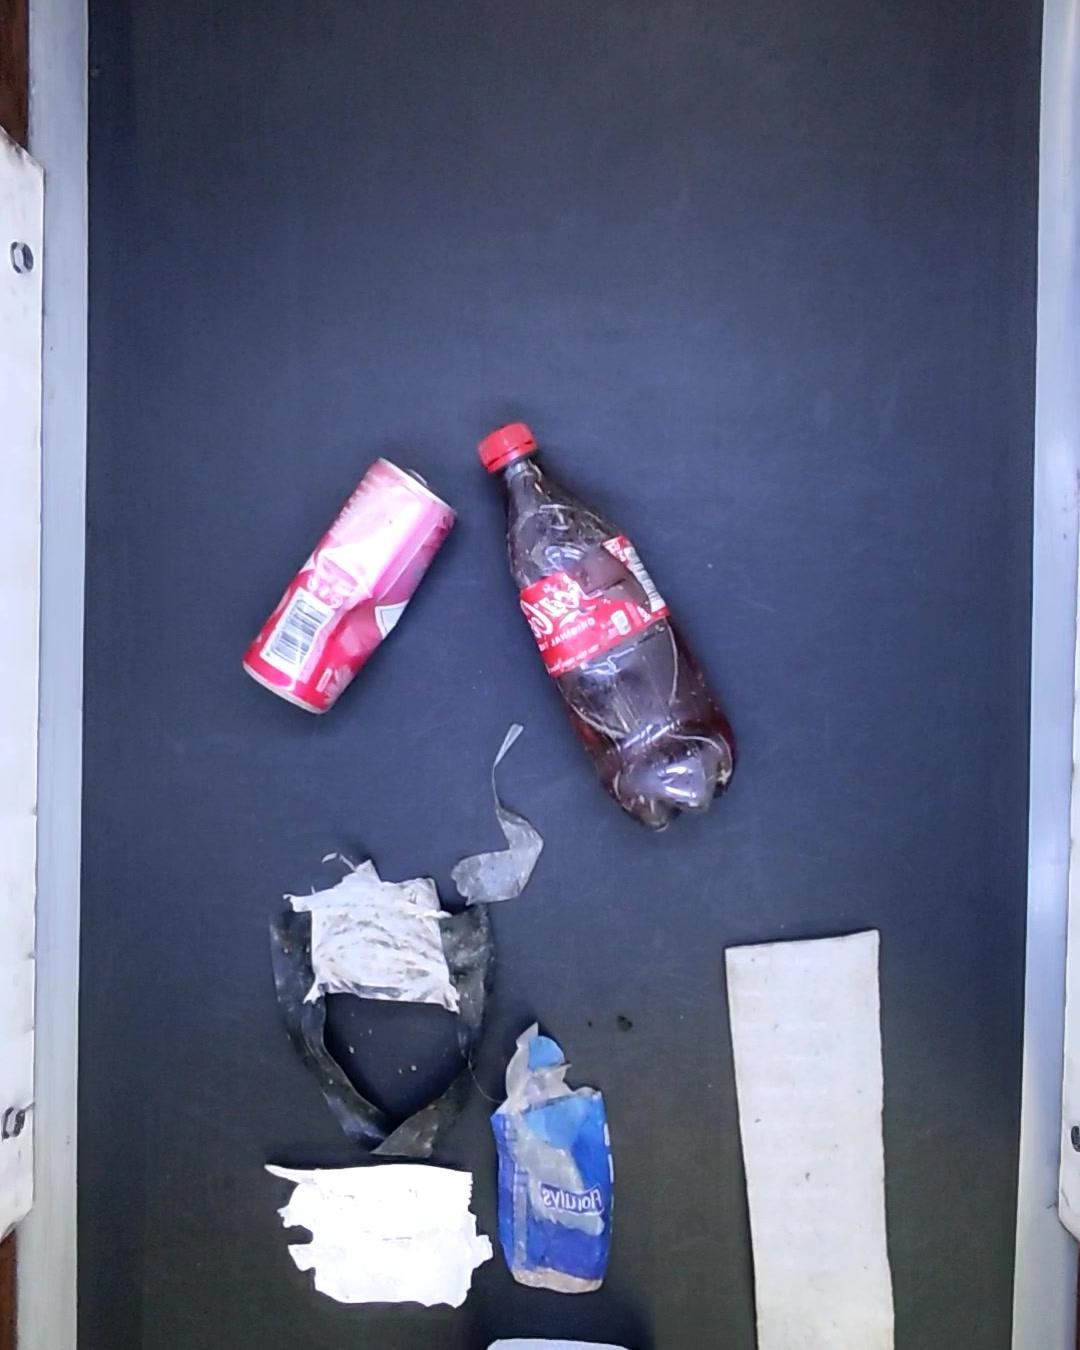Drankblikjes: (239, 452, 454, 731)
Drankflessen - 1-2 liter: (473, 418, 730, 838)
Plastic folies of stukken daarvan 2.5- 50 cm: (260, 1157, 492, 1315), (447, 724, 542, 911)
